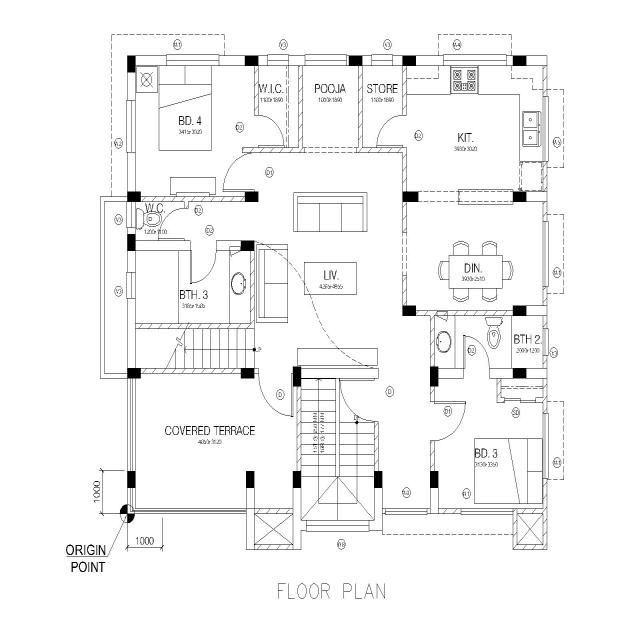Column: (429, 364, 440, 388), (126, 190, 142, 204), (240, 239, 256, 253), (126, 367, 142, 381), (512, 366, 528, 380), (402, 304, 418, 318), (512, 190, 528, 204), (243, 54, 260, 67), (126, 54, 137, 74), (292, 366, 302, 388), (126, 470, 137, 490), (372, 470, 383, 490), (402, 191, 419, 203), (126, 233, 136, 253), (292, 470, 302, 490), (429, 470, 439, 490), (402, 54, 416, 68), (512, 55, 528, 67), (240, 367, 256, 379), (512, 305, 528, 317), (245, 470, 255, 489), (348, 55, 363, 67), (244, 191, 259, 203)
Door: (188, 240, 220, 252), (257, 366, 294, 376), (372, 375, 379, 425), (462, 367, 491, 379), (429, 398, 435, 444), (402, 111, 408, 149), (249, 150, 254, 190), (253, 113, 258, 149), (184, 205, 188, 242)
Opening: (419, 190, 460, 204), (303, 146, 358, 154), (402, 230, 408, 278)
Sliding Door: (504, 396, 538, 404)
Staircase: (301, 376, 373, 521), (127, 323, 257, 368)
Ventilator: (125, 271, 138, 301), (370, 54, 395, 68), (266, 54, 290, 68), (126, 199, 136, 230), (542, 326, 549, 356)
Window: (304, 518, 372, 534), (442, 53, 507, 67), (165, 53, 221, 68), (125, 98, 137, 156), (542, 412, 550, 480), (542, 220, 550, 288), (542, 95, 550, 163), (459, 508, 514, 516), (384, 508, 428, 516)
